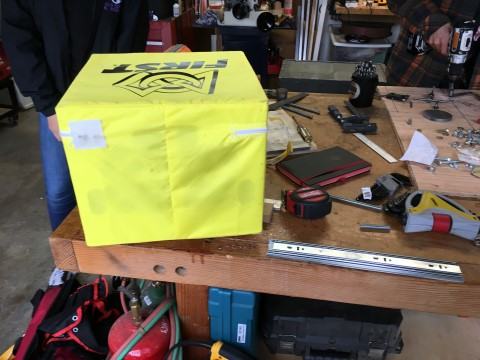cube: (55, 52, 269, 248)
